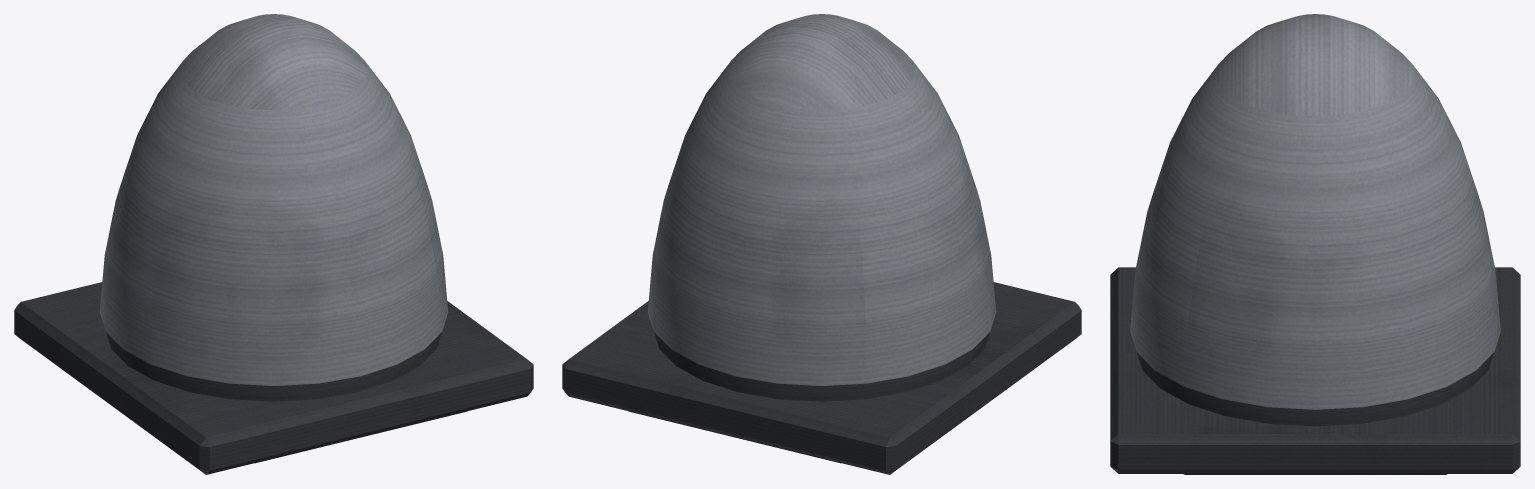
Rendered from R4B_Dome.glb.
3 views of the same model, side by side, from view 1: azimuth 30°, elevation 25°; view 2: azimuth 150°, elevation 25°; view 3: azimuth 270°, elevation 25° (orthographic). The views are drawn at different scales.
Visible parts, largest first — view 1: R4B_Dome; view 2: R4B_Dome; view 3: R4B_Dome.
Part boxes in pixels (<box>): R4B_Dome: <box>14,14,533,474</box>; R4B_Dome: <box>562,14,1081,474</box>; R4B_Dome: <box>1110,14,1520,474</box>.
Size of the model in its own units: 0.504 by 0.506 by 0.504.
3 materials, 3 textured.
